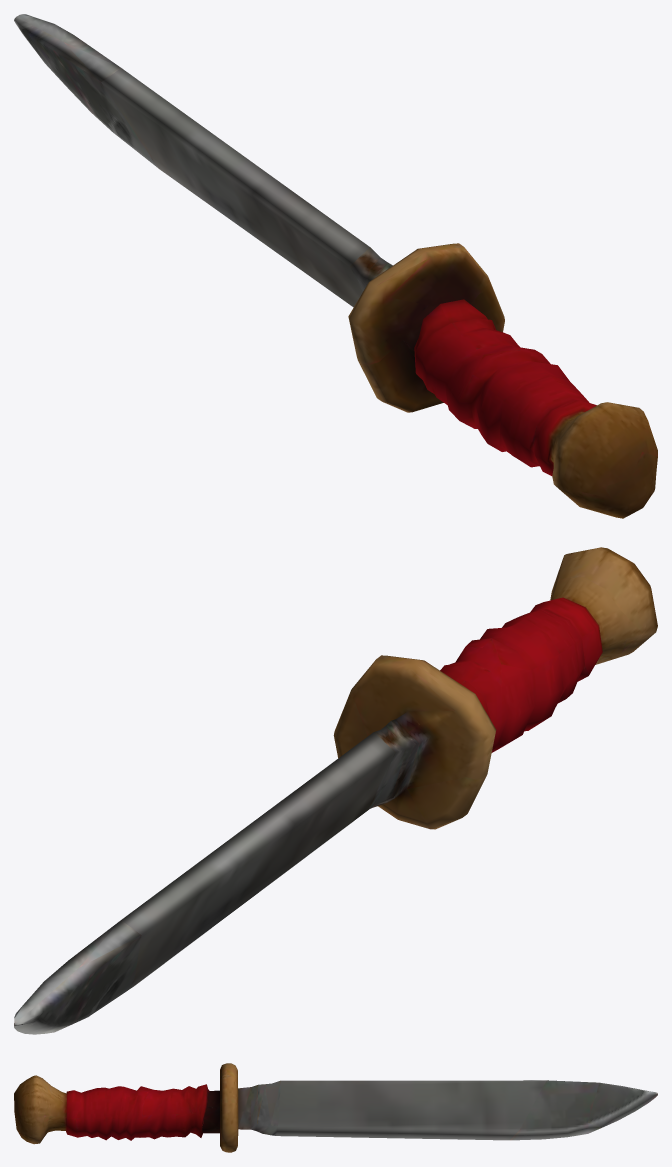
Rendered from m_hatchet.fbx.
3 views of the same model, one above another, from view 1: azimuth 30°, elevation 25°; view 2: azimuth 150°, elevation 25°; view 3: azimuth 270°, elevation 25° (orthographic). The views are drawn at different scales.
Visible parts, largest first — view 1: tripo_node_dd5e1744-86b9-4b59-b287-d1932890044c; view 2: tripo_node_dd5e1744-86b9-4b59-b287-d1932890044c; view 3: tripo_node_dd5e1744-86b9-4b59-b287-d1932890044c.
Part boxes in pixels (box(x1,y1,x2,y2)): tripo_node_dd5e1744-86b9-4b59-b287-d1932890044c: box(14, 14, 657, 518); tripo_node_dd5e1744-86b9-4b59-b287-d1932890044c: box(14, 547, 657, 1034); tripo_node_dd5e1744-86b9-4b59-b287-d1932890044c: box(14, 1063, 657, 1152).
Bounding box in the file's own units: 0.1481 × 0.1468 × 1.02.
1 material, 1 textured.
